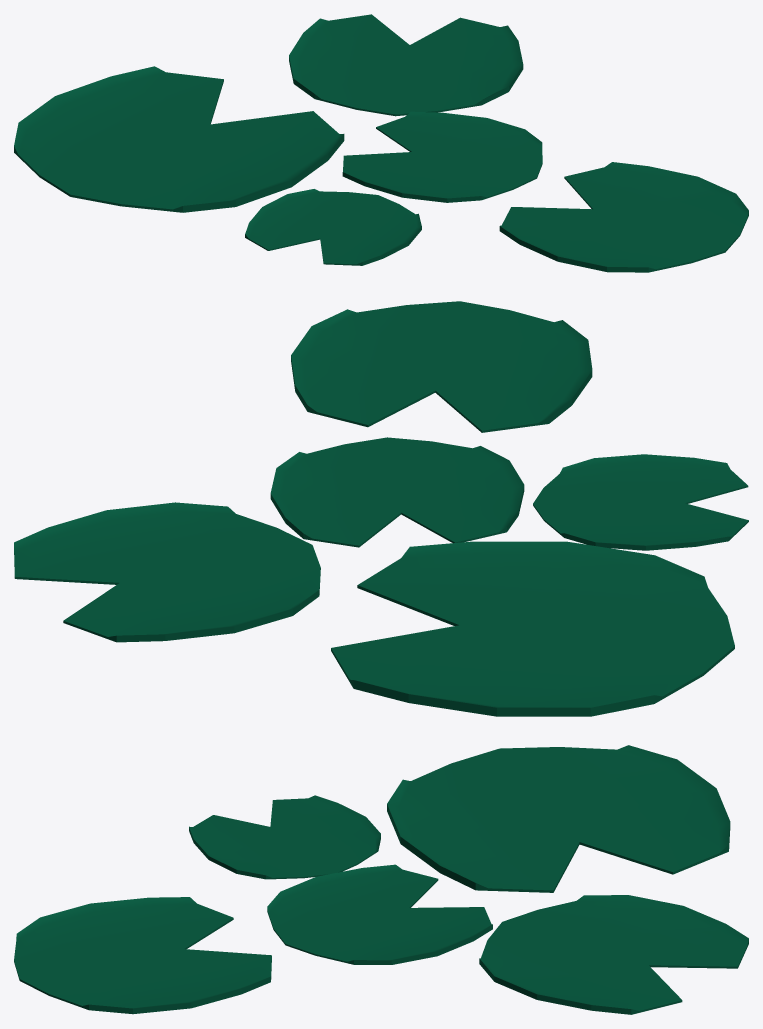
The model's file is Environment_LilyPads.fbx.
The picture shows the model from 3 angles, top to bottom: view 1: azimuth 30°, elevation 25°; view 2: azimuth 150°, elevation 25°; view 3: azimuth 270°, elevation 25°; orthographic projection. The views are drawn at different scales.
Parts seen in each view (by area): view 1: polySurface633; view 2: polySurface633; view 3: polySurface633.
Part boxes in pixels (left/top/right/bottom): polySurface633: left=14, top=14, right=748, bottom=272; polySurface633: left=14, top=301, right=748, bottom=716; polySurface633: left=14, top=745, right=748, bottom=1014.
Size of the model in its own units: 697 by 10.15 by 815.
